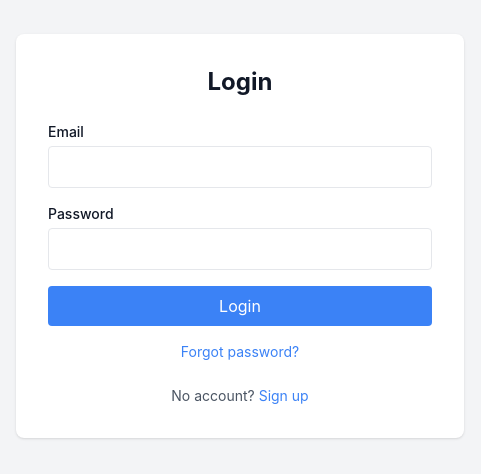
Scenario: LoginPage › should show error message on login failure
The image size is (481, 474).
Type "wrong@example.com" into the field labelled "Email".
click(240, 167); type("wrong@example.com")  # box x1=48 y1=146 x2=432 y2=188
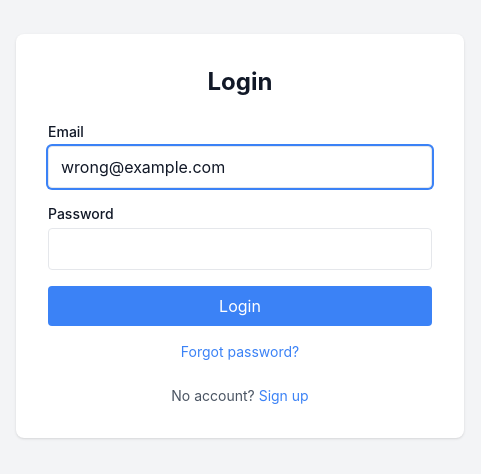
Type "WrongPassword" into the password field labelled "Password".
click(240, 249); type("WrongPassword")  # box x1=48 y1=228 x2=432 y2=270
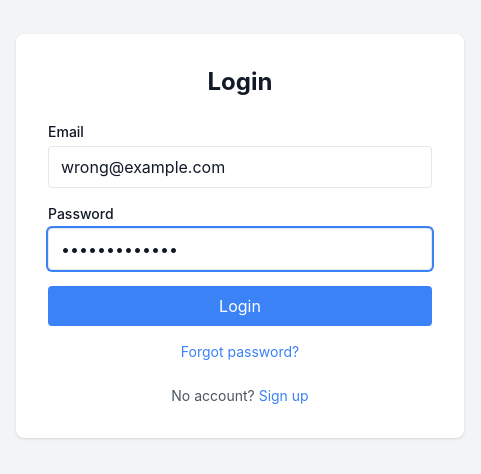
Click the button "Login".
click(240, 306)  # box x1=48 y1=286 x2=432 y2=326
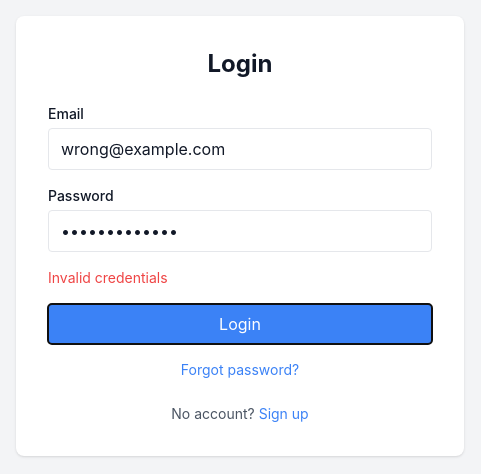
expect the text "Invalid credentials" is shown: met, box x1=48 y1=269 x2=168 y2=286
